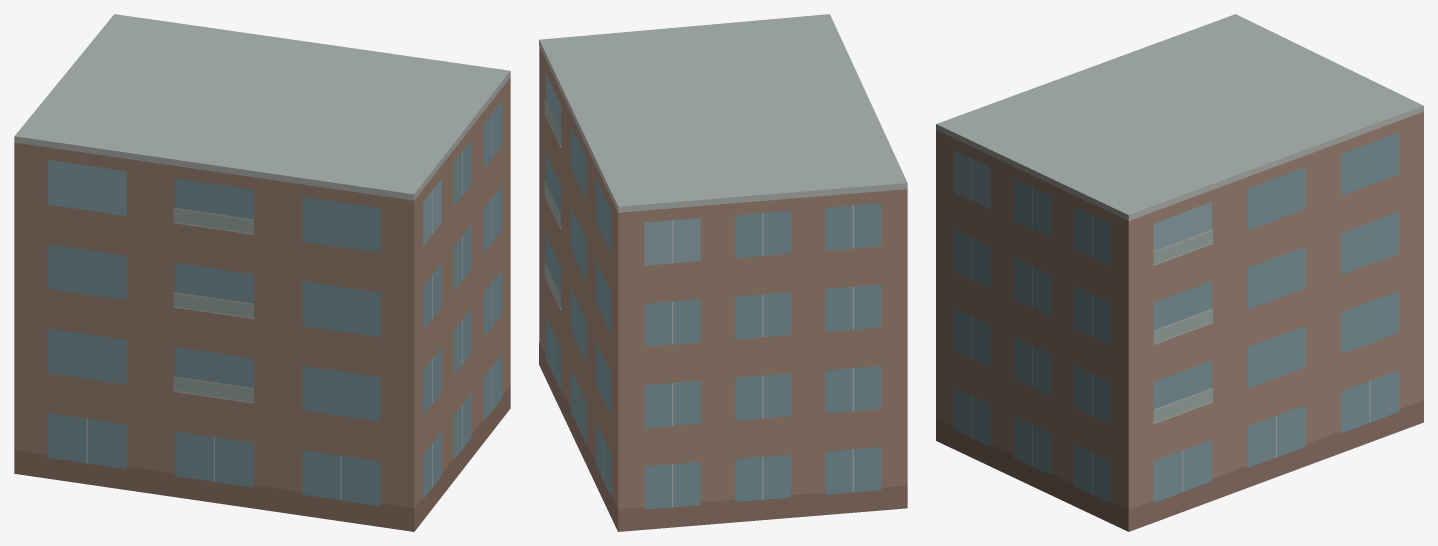
The model's file is survey-upis-32825488.glb.
The picture shows the model from 3 angles, left to right: view 1: azimuth 30°, elevation 25°; view 2: azimuth 150°, elevation 25°; view 3: azimuth 270°, elevation 25°; orthographic projection. The views are drawn at different scales.
Visible parts, largest first — view 1: survey-upis-32825488.tmp; view 2: survey-upis-32825488.tmp; view 3: survey-upis-32825488.tmp.
Part boxes in pixels (x1,y1,x2,y2): survey-upis-32825488.tmp: [14, 14, 510, 531]; survey-upis-32825488.tmp: [539, 14, 907, 531]; survey-upis-32825488.tmp: [936, 14, 1423, 531].
Bounding box in the file's own units: 17.96 × 13.18 × 18.4.
